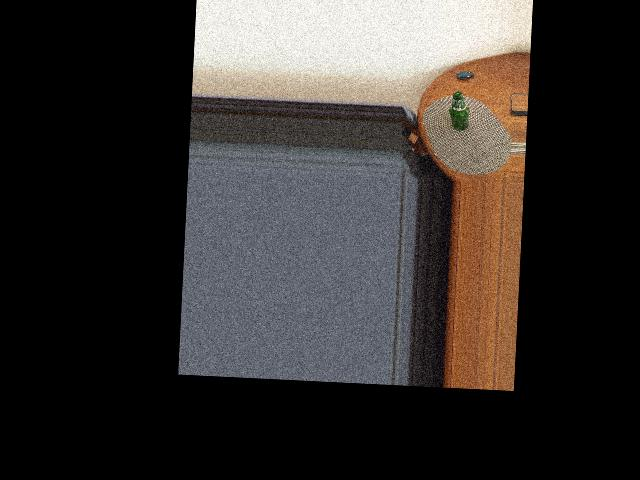beer: (447, 90, 471, 130)
